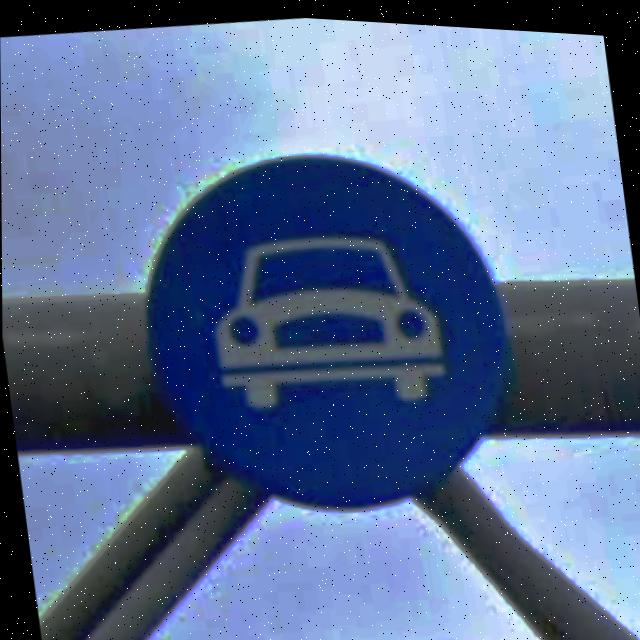car: (122, 116, 530, 536)
